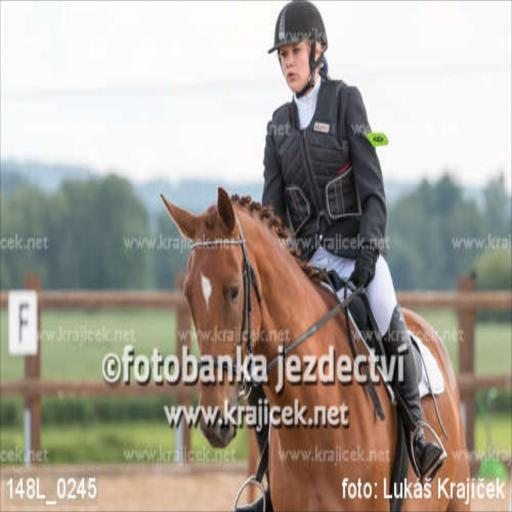horse: (160, 188, 474, 510)
